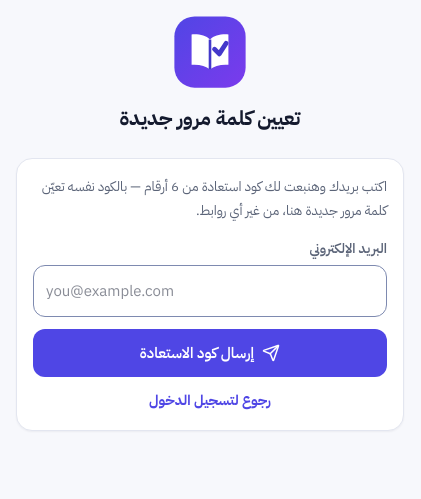
Scenario: ResetPasswordPage — حالة تحميل أزرار الإرسال (3A-914) › طلب كود الاستعادة: مؤشر فوري ومنع مكرر وتصفير عند الخطأ
This screenshot has width=421, height=499.
Type "teacher@example.com" into the field labelled "البريد الإلكتروني" at (210, 291), box [33,265,387,317]
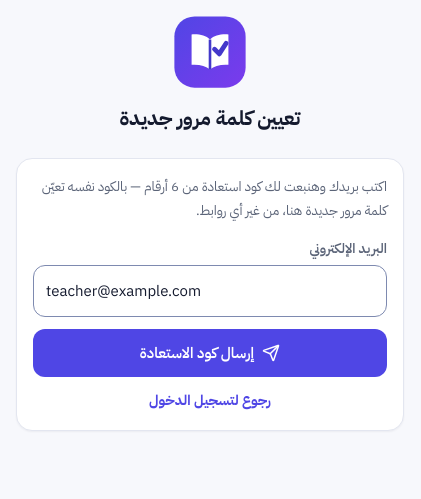
Click the button "إرسال كود الاستعادة" at (210, 353), box [33,329,387,377]
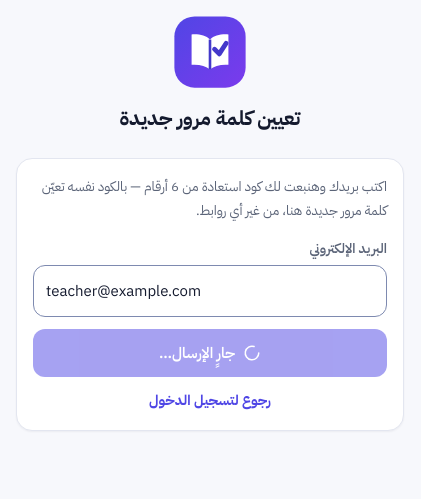
Expected: the button "جارٍ الإرسال…" is disabled, [33,329,387,377]
Expected: the icon with class "animate-spin" is shown, [243,344,261,362]
Expected: the form named "جارٍ الإرسال" is shown
Submit the form named "جارٍ الإرسال", box [33,175,387,414]
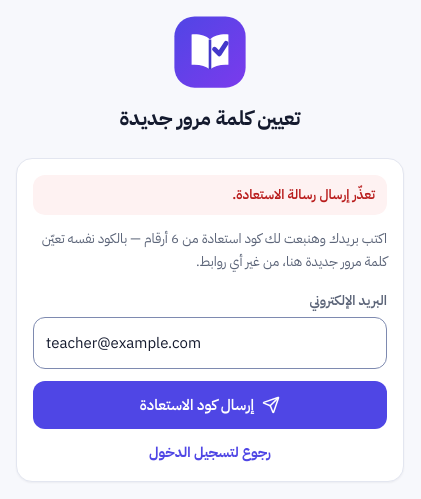
Expected: the button "إرسال كود الاستعادة" is enabled, [33,381,387,429]
Expected: the icon with class "animate-spin" is gone
Expected: the message shows "تعذّر إرسال رسالة الاستعادة", [232,184,375,205]
